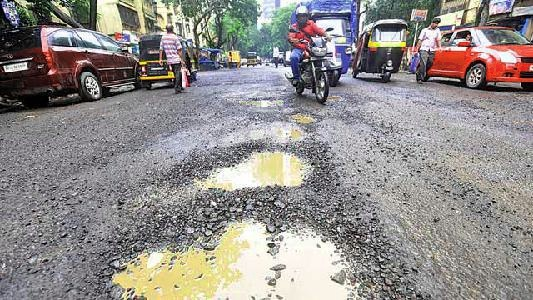pothole: (88, 200, 406, 296), (182, 140, 332, 187), (270, 120, 308, 139), (286, 107, 319, 125), (244, 95, 286, 109)
